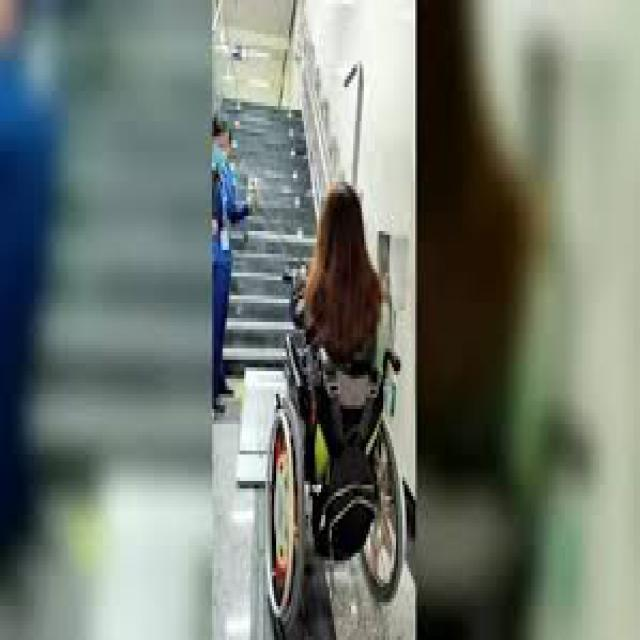wheelchairs: (246, 300, 415, 624)
